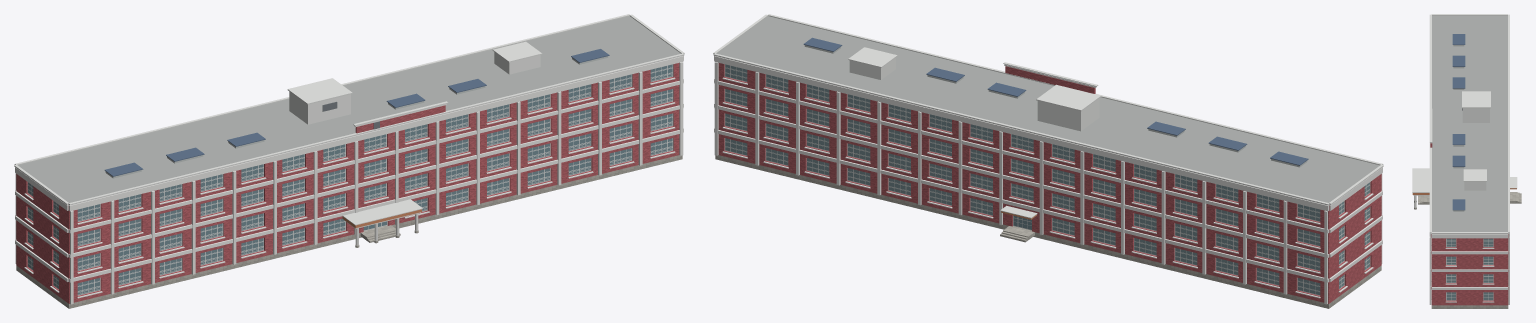
3 views of the same model, side by side, from view 1: azimuth 30°, elevation 25°; view 2: azimuth 150°, elevation 25°; view 3: azimuth 270°, elevation 25° (orthographic). The views are drawn at different scales.
Visible parts, largest first — view 1: main__coralbrick, main__roof, main__band, main__glass, main__frame, main__cap, main__sill, main__stone, main__solar, main__panel, main__steel, main__sideglass; view 2: main__coralbrick, main__roof, main__band, main__sideglass, main__frame, main__cap, main__sill, main__stone, main__panel, main__solar, main__steel; view 3: main__roof, main__coralbrick, main__cap, main__band, main__solar, main__sideglass, main__panel, main__frame, main__stone, main__sill, main__steel.
Boxes of the visible parts, x1,y1,x2,y2 form: main__coralbrick: (16, 63, 679, 303); main__roof: (18, 16, 680, 205); main__band: (15, 56, 683, 304); main__glass: (77, 64, 672, 294); main__frame: (27, 64, 673, 295); main__cap: (14, 14, 684, 225); main__sill: (24, 77, 675, 298); main__stone: (16, 155, 682, 308); main__solar: (104, 49, 609, 176); main__panel: (289, 52, 540, 124); main__steel: (105, 56, 608, 178); main__sideglass: (28, 182, 58, 288); main__coralbrick: (718, 63, 1381, 303); main__roof: (717, 16, 1379, 205); main__band: (714, 56, 1382, 304); main__sideglass: (725, 64, 1369, 294); main__frame: (724, 64, 1370, 295); main__cap: (713, 14, 1383, 218); main__sill: (722, 77, 1373, 298); main__stone: (715, 155, 1381, 308); main__panel: (849, 57, 1099, 131); main__solar: (803, 37, 1308, 165); main__steel: (804, 45, 1307, 167); main__roof: (1432, 15, 1507, 231); main__coralbrick: (1430, 143, 1508, 305); main__cap: (1412, 14, 1517, 233); main__band: (1413, 142, 1509, 304); main__solar: (1452, 34, 1465, 210); main__sideglass: (1446, 238, 1493, 300); main__panel: (1462, 108, 1489, 190); main__frame: (1446, 238, 1493, 300); main__stone: (1414, 201, 1508, 308); main__sill: (1431, 238, 1494, 302); main__steel: (1453, 45, 1464, 211).
Bounding box in the file's own units: 94.66 × 18.54 × 20.
15 materials, 2 textured.
